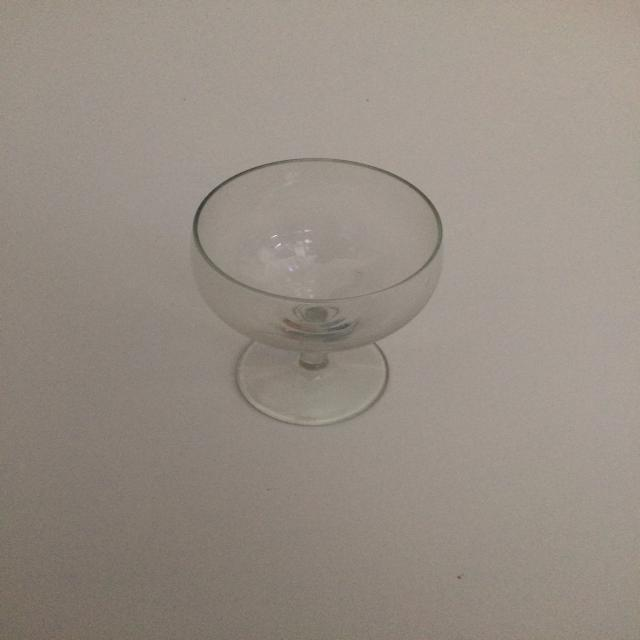glass: (175, 138, 462, 434)
